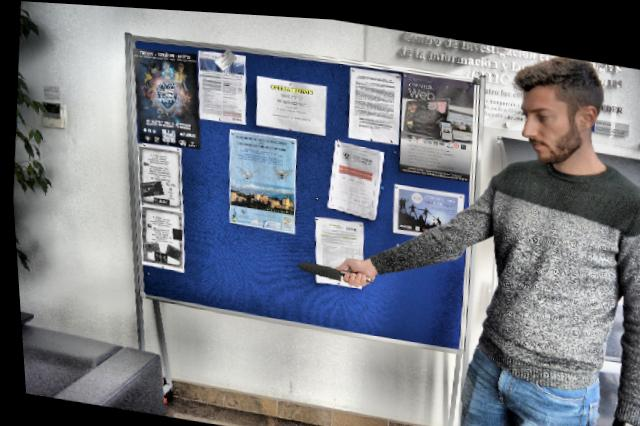knife: (289, 255, 371, 287)
